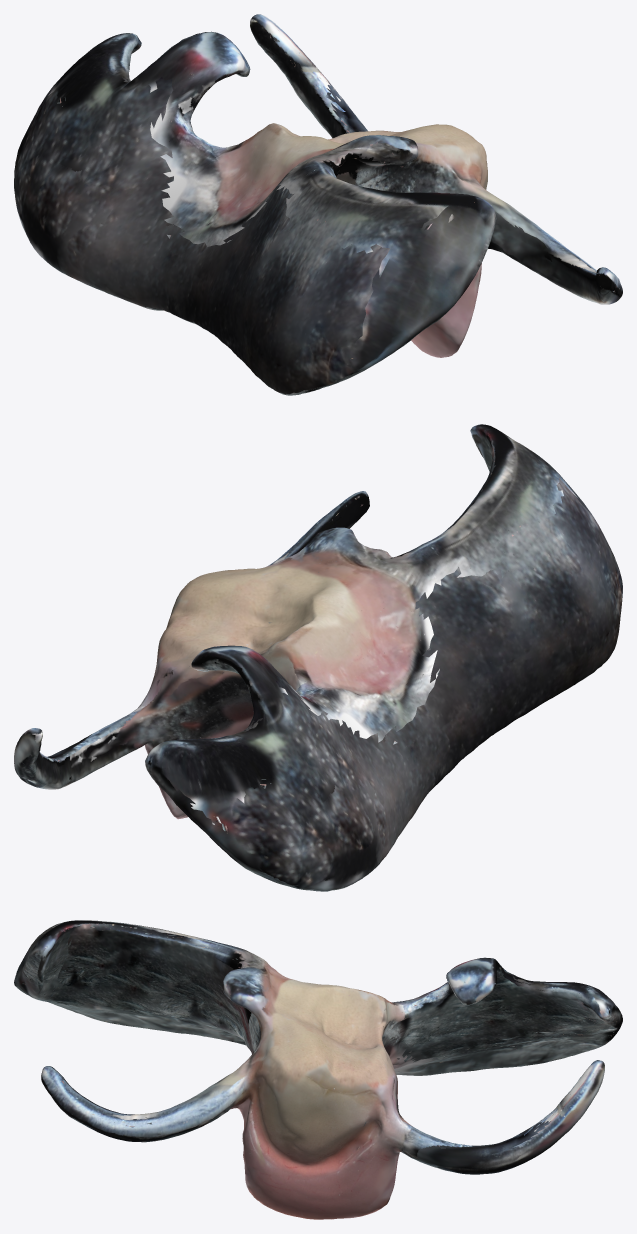
The model's file is kombinasi frame akrilik.glb.
3 renders of one model, top to bottom at view 1: azimuth 30°, elevation 25°; view 2: azimuth 150°, elevation 25°; view 3: azimuth 270°, elevation 25°, orthographic. The views are drawn at different scales.
Parts seen in each view (by area): view 1: frame kombinasi akrilik LowerJawScan; view 2: frame kombinasi akrilik LowerJawScan; view 3: frame kombinasi akrilik LowerJawScan.
Boxes of the visible parts, bbox=[...] form: frame kombinasi akrilik LowerJawScan: bbox=[14, 14, 622, 395]; frame kombinasi akrilik LowerJawScan: bbox=[14, 424, 622, 891]; frame kombinasi akrilik LowerJawScan: bbox=[14, 920, 622, 1219].
Bounding box in the file's own units: 1.54 × 1.28 × 2.92.
Materials: 1 (1 with a texture image).
